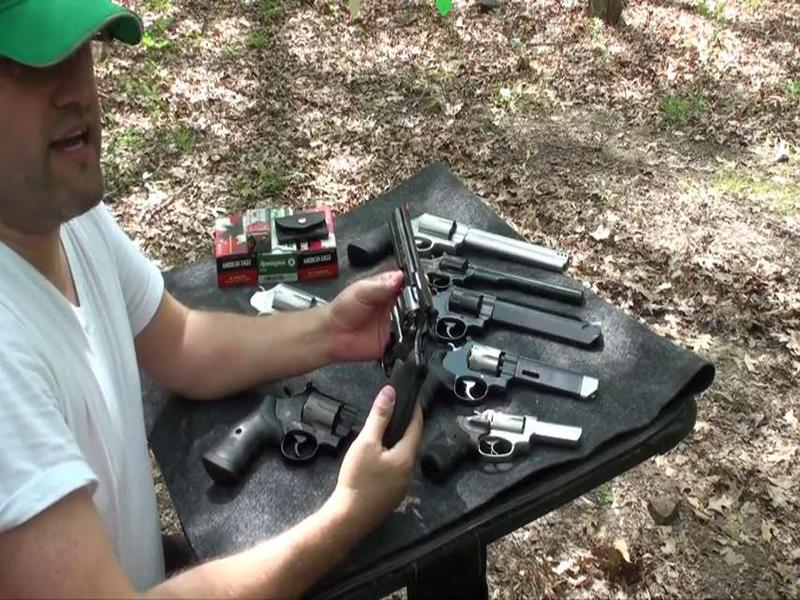Revolver: (357, 204, 451, 468)
